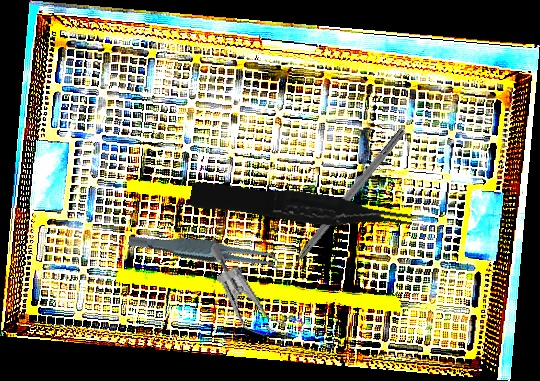Hook Surgical: (276, 126, 407, 283)
Speculum: (186, 241, 324, 353)
Tissue Forceps: (188, 171, 415, 246), (126, 203, 284, 300)
